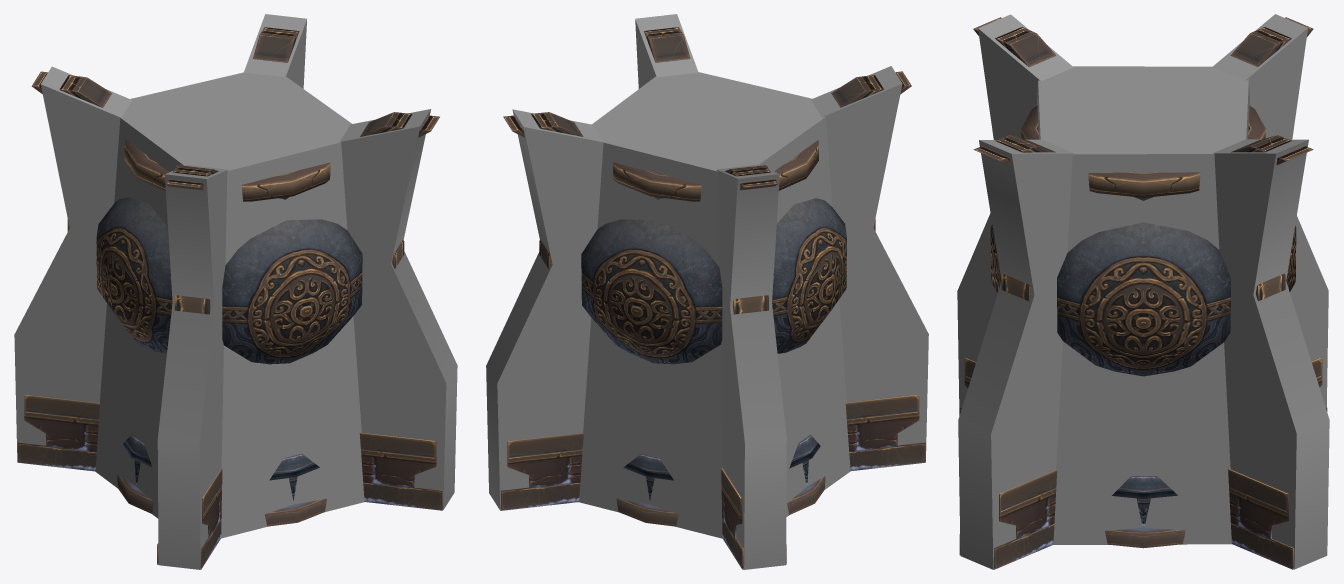
File: Scene_Build_TianShan_XiangLu_1.FBX
3 views of the same model, side by side, from view 1: azimuth 30°, elevation 25°; view 2: azimuth 150°, elevation 25°; view 3: azimuth 270°, elevation 25° (orthographic). The views are drawn at different scales.
Visible parts, largest first — view 1: Scene_Build_TianShan_XiangLu_1_Xzm, Scene_Build_TianShan_XiangLu_1; view 2: Scene_Build_TianShan_XiangLu_1_Xzm, Scene_Build_TianShan_XiangLu_1; view 3: Scene_Build_TianShan_XiangLu_1_Xzm, Scene_Build_TianShan_XiangLu_1.
Part boxes in pixels (x1,y1,x2,y2): Scene_Build_TianShan_XiangLu_1_Xzm: (14,14,457,569); Scene_Build_TianShan_XiangLu_1: (17,27,442,569); Scene_Build_TianShan_XiangLu_1_Xzm: (486,14,928,569); Scene_Build_TianShan_XiangLu_1: (501,27,925,569); Scene_Build_TianShan_XiangLu_1_Xzm: (957,14,1329,569); Scene_Build_TianShan_XiangLu_1: (959,17,1327,569).
Bounding box in the file's own units: 1243 × 1505 × 1243.
